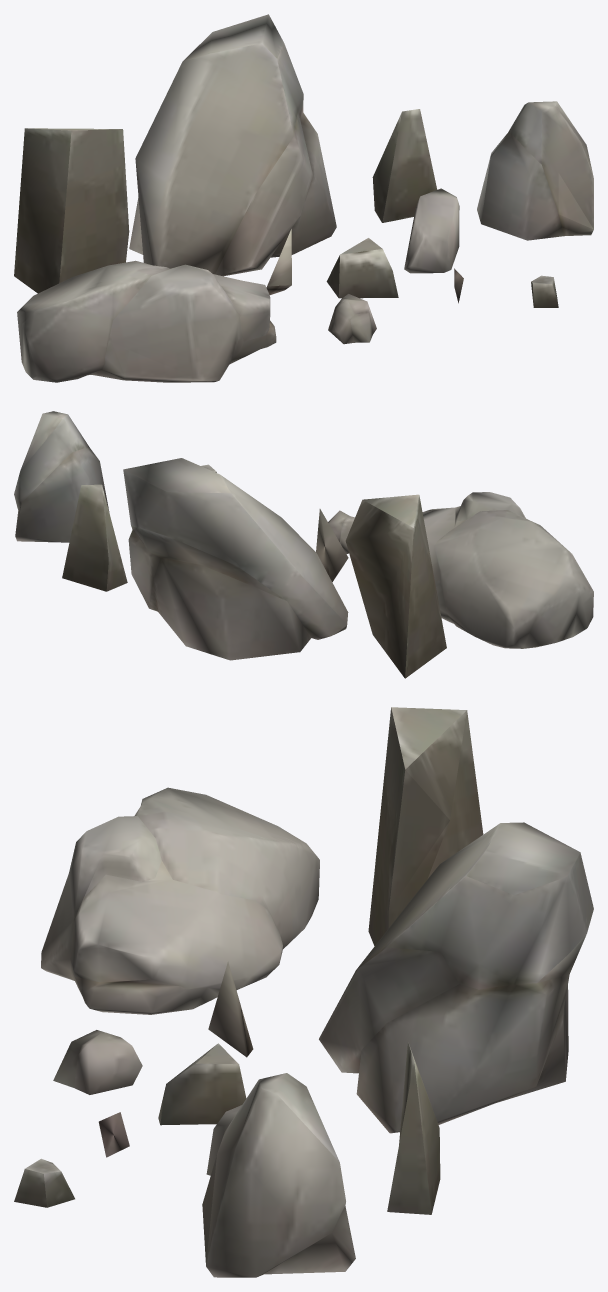
File: NAT_RocksStylized_lod.glb
3 views of the same model, one above another, from view 1: azimuth 30°, elevation 25°; view 2: azimuth 150°, elevation 25°; view 3: azimuth 270°, elevation 25° (orthographic). The views are drawn at different scales.
Visible parts, largest first — view 1: SM_Rocks_04, SM_Rocks_03, SM_Rocks_09, SM_Rocks_05, SM_Rocks_08, SM_Rocks_02, SM_Rocks_07, SM_Rocks_01, SM_Rocks_11, SM_Rocks_06; view 2: SM_Rocks_04, SM_Rocks_03, SM_Rocks_09, SM_Rocks_05, SM_Rocks_08, SM_Rocks_11, SM_Rocks_01; view 3: SM_Rocks_04, SM_Rocks_03, SM_Rocks_05, SM_Rocks_09, SM_Rocks_08, SM_Rocks_07, SM_Rocks_01, SM_Rocks_11, SM_Rocks_06, SM_Rocks_10.
Part boxes in pixels (box(x1,y1,x2,y2)): SM_Rocks_04: box(129, 14, 336, 276); SM_Rocks_03: box(17, 260, 276, 382); SM_Rocks_09: box(14, 128, 129, 293); SM_Rocks_05: box(477, 101, 593, 240); SM_Rocks_08: box(372, 109, 437, 222); SM_Rocks_02: box(404, 188, 459, 273); SM_Rocks_07: box(326, 238, 398, 298); SM_Rocks_01: box(328, 294, 376, 344); SM_Rocks_11: box(266, 229, 291, 294); SM_Rocks_06: box(531, 275, 558, 307); SM_Rocks_04: box(123, 458, 348, 660); SM_Rocks_03: box(422, 492, 593, 648); SM_Rocks_09: box(345, 494, 446, 678); SM_Rocks_05: box(14, 411, 109, 542); SM_Rocks_08: box(62, 484, 127, 591); SM_Rocks_11: box(316, 509, 348, 581); SM_Rocks_01: box(328, 510, 354, 553); SM_Rocks_04: box(319, 822, 593, 1133); SM_Rocks_03: box(41, 787, 319, 1014); SM_Rocks_05: box(202, 1073, 355, 1277); SM_Rocks_09: box(368, 707, 483, 946); SM_Rocks_08: box(387, 1042, 440, 1214); SM_Rocks_07: box(158, 1043, 246, 1125); SM_Rocks_01: box(53, 1030, 142, 1094); SM_Rocks_11: box(208, 961, 253, 1057); SM_Rocks_06: box(14, 1158, 74, 1207); SM_Rocks_10: box(98, 1112, 129, 1157).
Bounding box in the file's own units: 5.59 × 1.67 × 3.34.
Materials: 1 (1 with a texture image).
